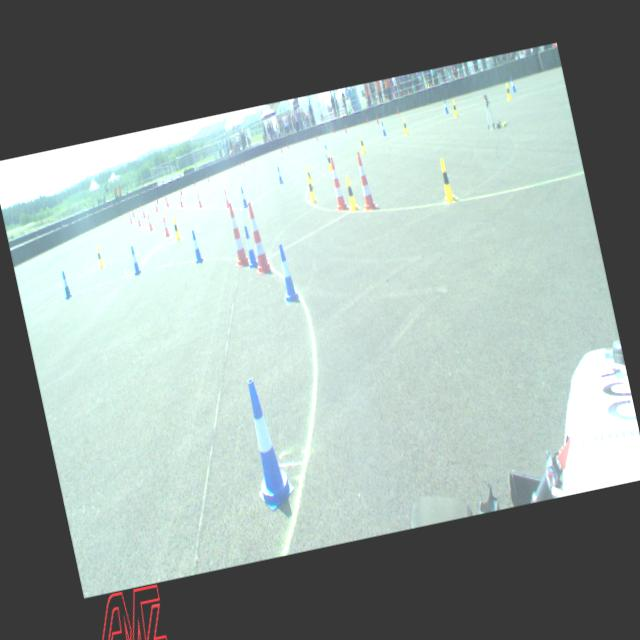blue_cone: (235, 373, 298, 512), (274, 242, 300, 303), (241, 224, 258, 268), (190, 229, 203, 262), (59, 270, 72, 299), (130, 244, 142, 274), (239, 186, 248, 207), (276, 166, 284, 184), (509, 76, 516, 92), (442, 98, 448, 114), (380, 122, 386, 136), (323, 144, 328, 160)
large_orange_cone: (242, 200, 272, 276), (225, 202, 249, 267), (354, 150, 376, 210), (327, 156, 349, 212)
orange_cone: (162, 216, 170, 236), (222, 188, 230, 208), (146, 213, 153, 229), (195, 192, 202, 207), (136, 212, 142, 225), (178, 194, 184, 207), (128, 212, 132, 224), (142, 206, 146, 217), (165, 196, 169, 207), (154, 200, 158, 211)
unknown_cone: (132, 210, 135, 218), (344, 124, 347, 132), (376, 115, 378, 124), (396, 106, 398, 115), (243, 160, 245, 168), (366, 116, 368, 124), (180, 188, 182, 195), (193, 179, 195, 186), (156, 198, 158, 204), (207, 176, 209, 182), (239, 161, 241, 167), (280, 146, 282, 152), (286, 142, 288, 148), (316, 134, 318, 140), (332, 126, 334, 132)
yellow_cone: (436, 158, 455, 204), (342, 175, 358, 211), (305, 174, 317, 202), (94, 245, 104, 268), (172, 217, 182, 240), (305, 164, 313, 187), (504, 82, 512, 100), (325, 151, 332, 170), (402, 118, 408, 134), (452, 100, 458, 116), (360, 136, 365, 152)
